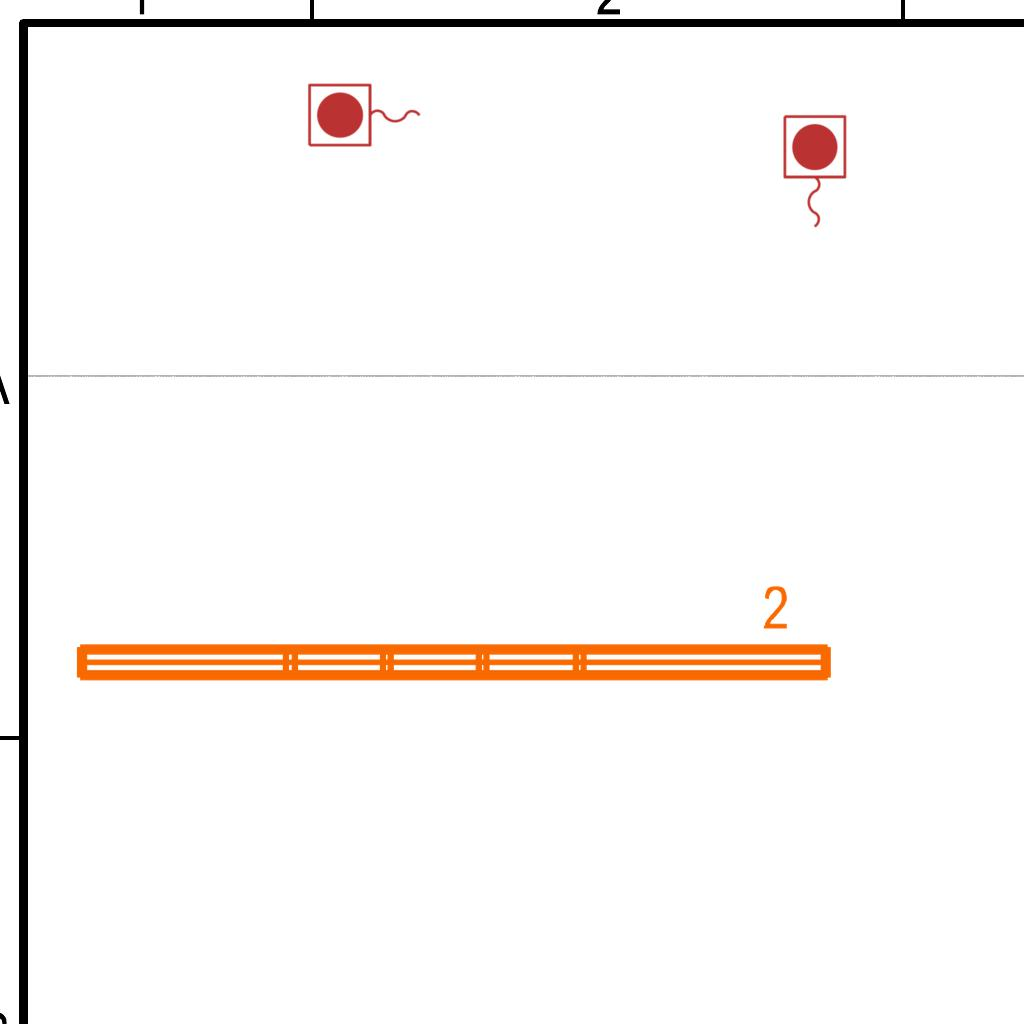Ambulanz_Pendelleuchte_LED: (66, 581, 840, 693)
Zugtaster: (304, 80, 426, 152), (778, 111, 850, 233)
